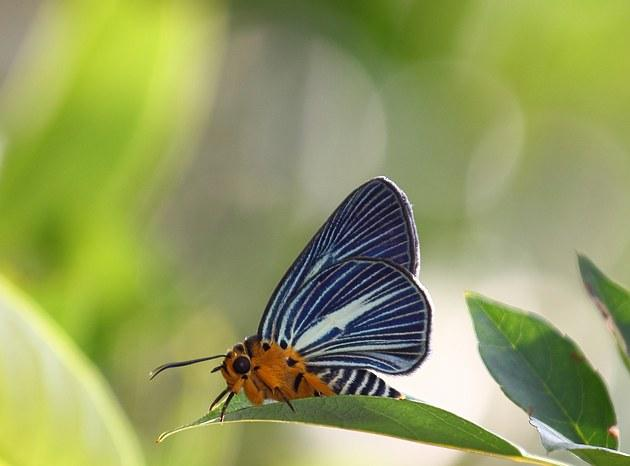Hesperiidae: (147, 169, 432, 433)
